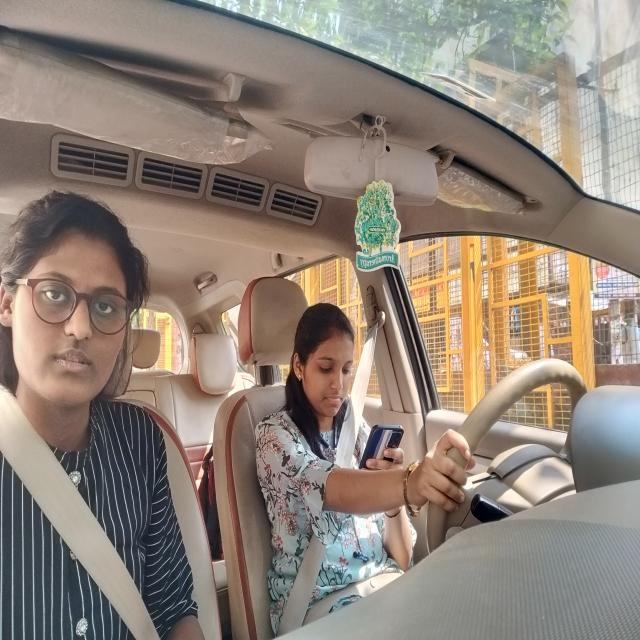mobile: (358, 419, 410, 479)
person: (1, 188, 150, 406), (285, 297, 364, 428)
